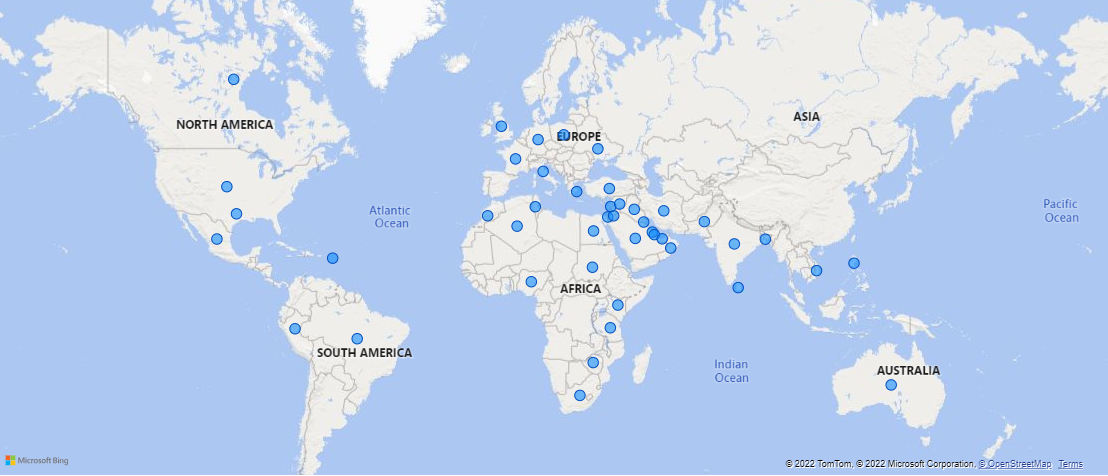

What the dashboard file says about the page in this screenshot:
{"tool":"powerbi","page":{"name":"Page 2","canvas":[1280,720],"ordinal":1},"visuals":[{"type":"filledMap","fields":{"Category":["MiddleEastFreelancers_cleaning.location"],"Series":["MiddleEastFreelancers_cleaning.skills"]},"box":[9.8,0,1206.5,695.6],"z":0}]}

Visuals, with their boxes on the page's 1280x720 design canvas (x1, y1, x2, y2). These are canvas units, not pixel positions in the 1108x476 screenshot, which may show the page scaled, cropped or inside an application window:
filledMap - MiddleEastFreelancers_cleaning.location x MiddleEastFreelancers_cleaning.skills: l=10, t=0, r=1216, b=696
